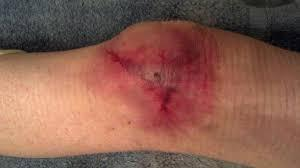Spider: (105, 22, 216, 131)
